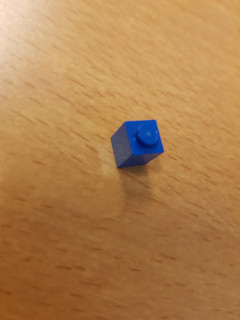1x1 blue: (111, 120, 164, 168)
